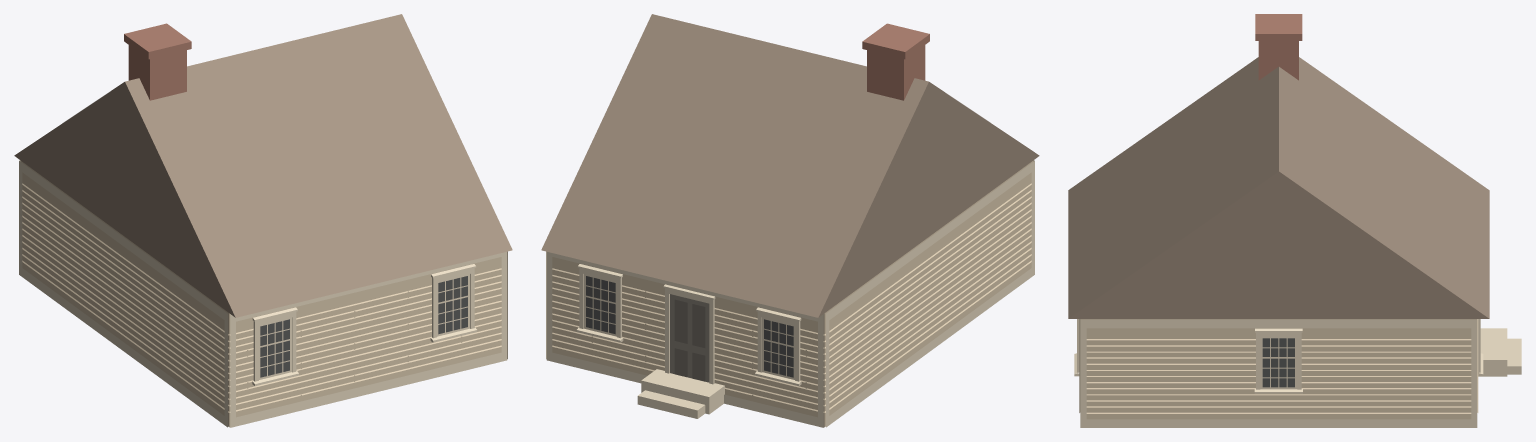
The model's file is recon_1835_south_d4_014__inferred_1835.glb.
3 views of the same model, side by side, from view 1: azimuth 30°, elevation 25°; view 2: azimuth 150°, elevation 25°; view 3: azimuth 270°, elevation 25° (orthographic). The views are drawn at different scales.
Visible parts, largest first — view 1: recon_1835_south_d4_014__inferred_1835; view 2: recon_1835_south_d4_014__inferred_1835; view 3: recon_1835_south_d4_014__inferred_1835.
Part boxes in pixels (x1,y1,x2,y2): recon_1835_south_d4_014__inferred_1835: (14, 14, 512, 427); recon_1835_south_d4_014__inferred_1835: (541, 14, 1039, 427); recon_1835_south_d4_014__inferred_1835: (1068, 14, 1521, 427).
Bounding box in the file's own units: 6.47 × 6.65 × 9.42.
